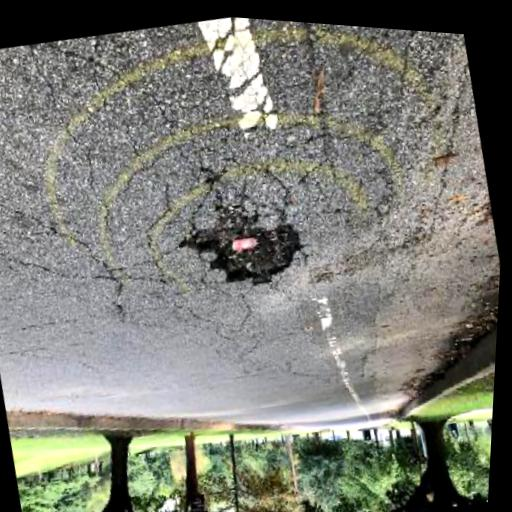pothole: (173, 197, 318, 307)
